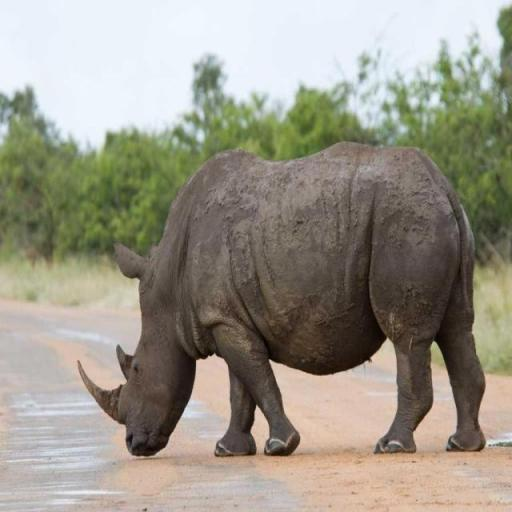Rhino: (76, 139, 487, 458)
